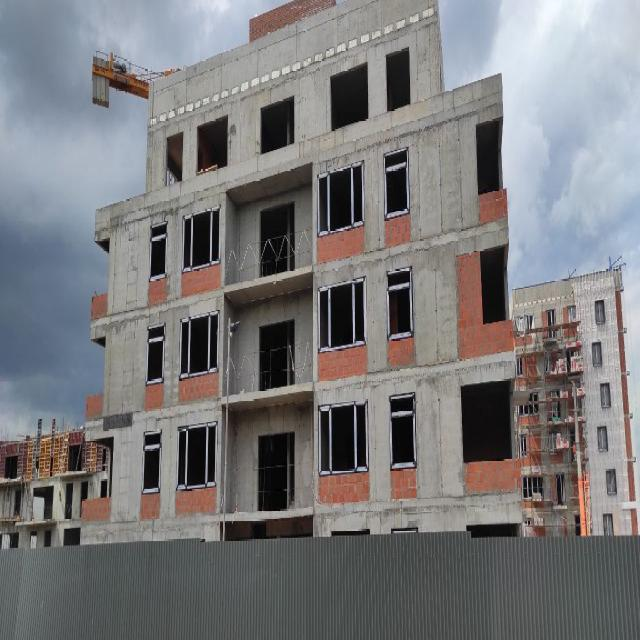Building: (81, 0, 521, 545)
